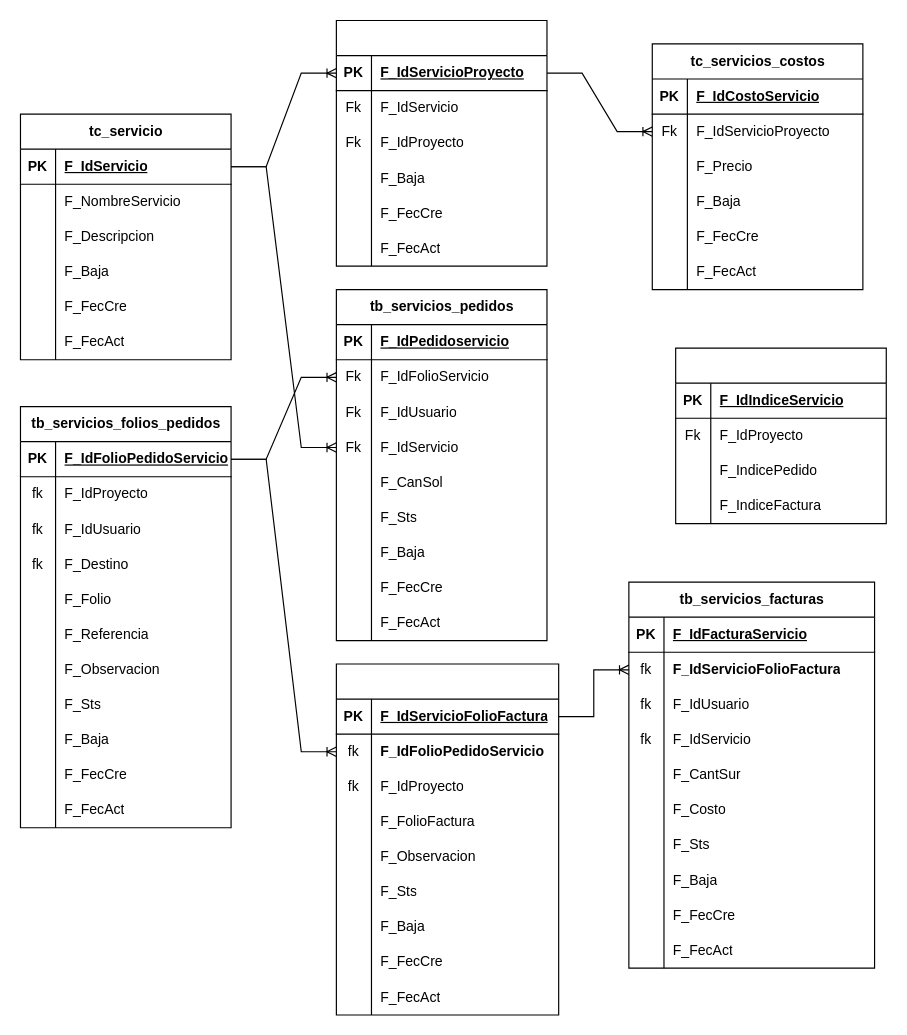
The diagram is 907 pixels wide and 1035 high, and some of its shapes have lost their labels. The box of each missing label's shape, as (x1, y1, x2, y2) in pixels:
tb_servicios_folios_facturas: (335, 663, 559, 1015)
tb_servicios_indices: (675, 347, 886, 524)
tc_servicios_proyecto: (335, 19, 547, 266)
